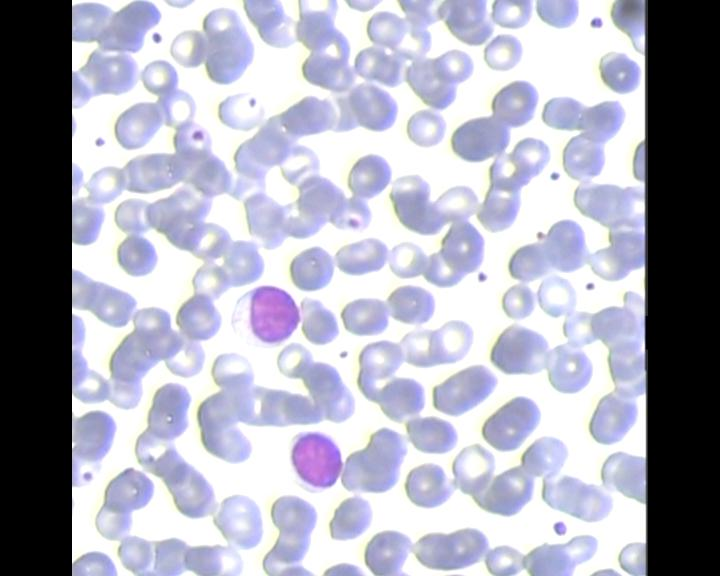lymp: (225, 286, 305, 352), (281, 427, 347, 497)
